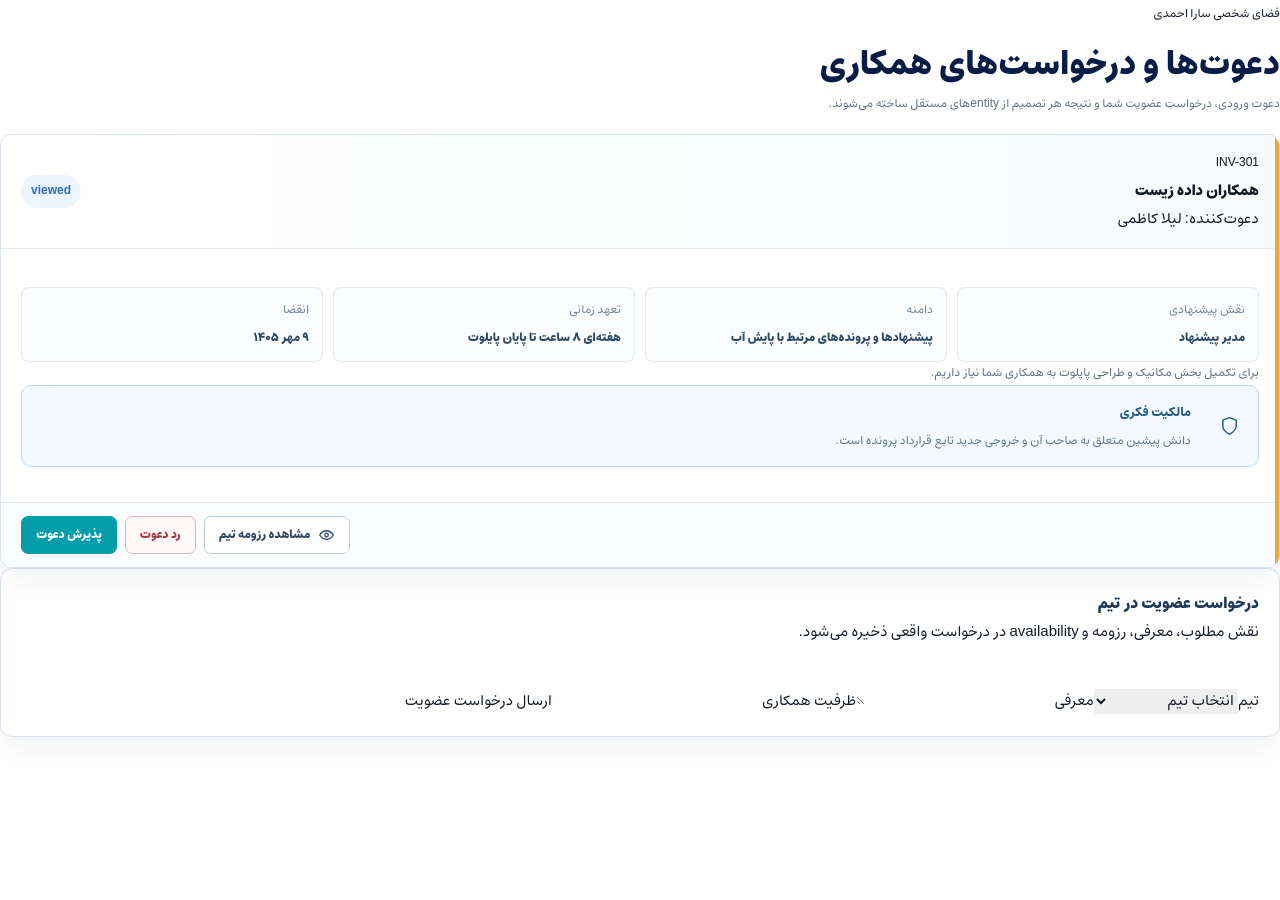
it: رگرسیون‌های رابط کاربری نسخه ۲۱ › دعوت‌نامه تیمی جزئیات نقش، تعهد، مالکیت فکری و رد دلیل‌دار دارد
Expected: the text "مدیر پیشنهاد" is shown, 1179,328 -> 1245,347
Expected: the text "هفته‌ای ۸ ساعت تا پایان پایلوت" is shown, 468,328 -> 621,347
Click the button "رد دعوت".
click(160, 535)  # box 125,516 -> 196,554
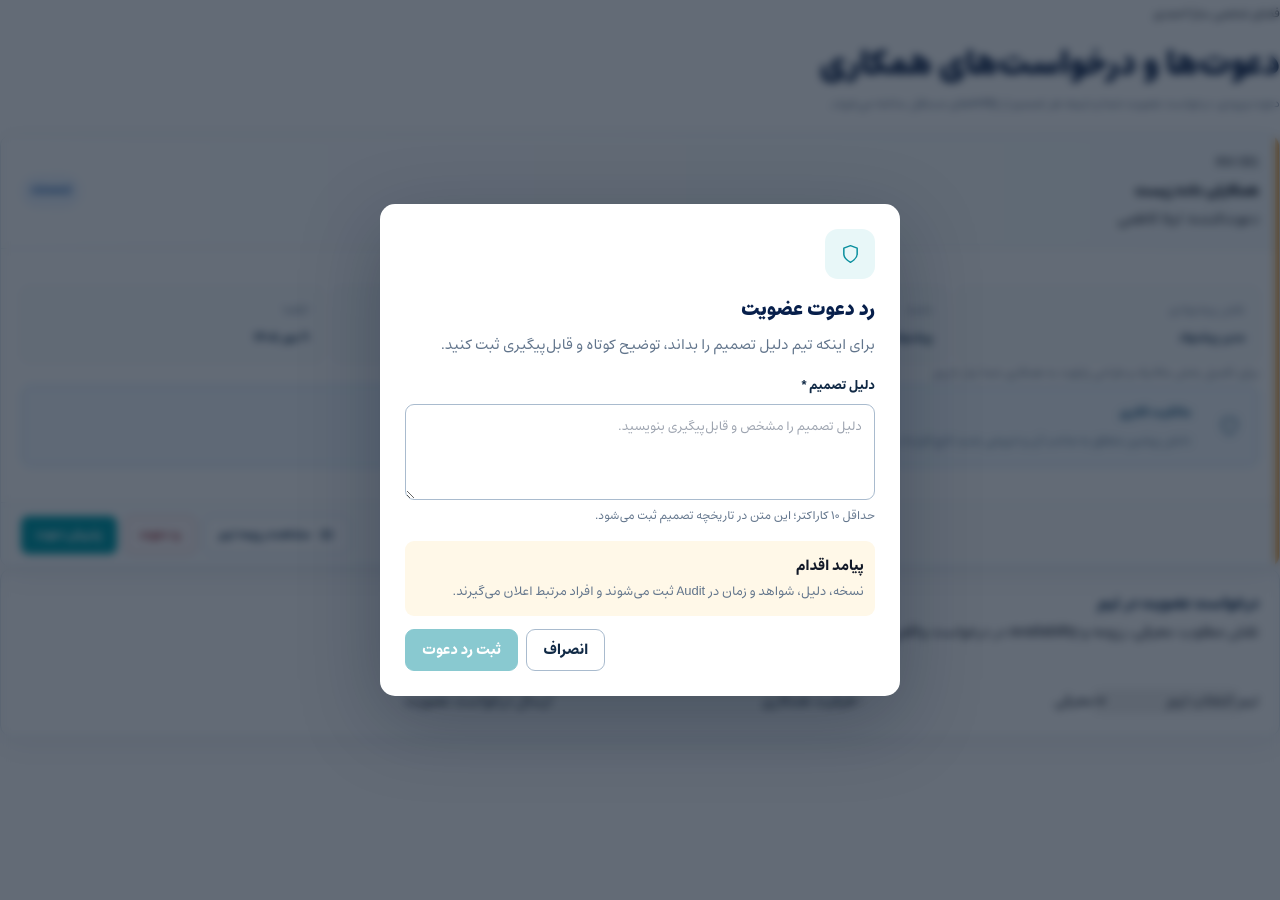
Result: the dialog "رد دعوت عضویت" is shown at 380,204 -> 900,696
Result: the button "ثبت رد دعوت" is disabled at 405,629 -> 518,671
